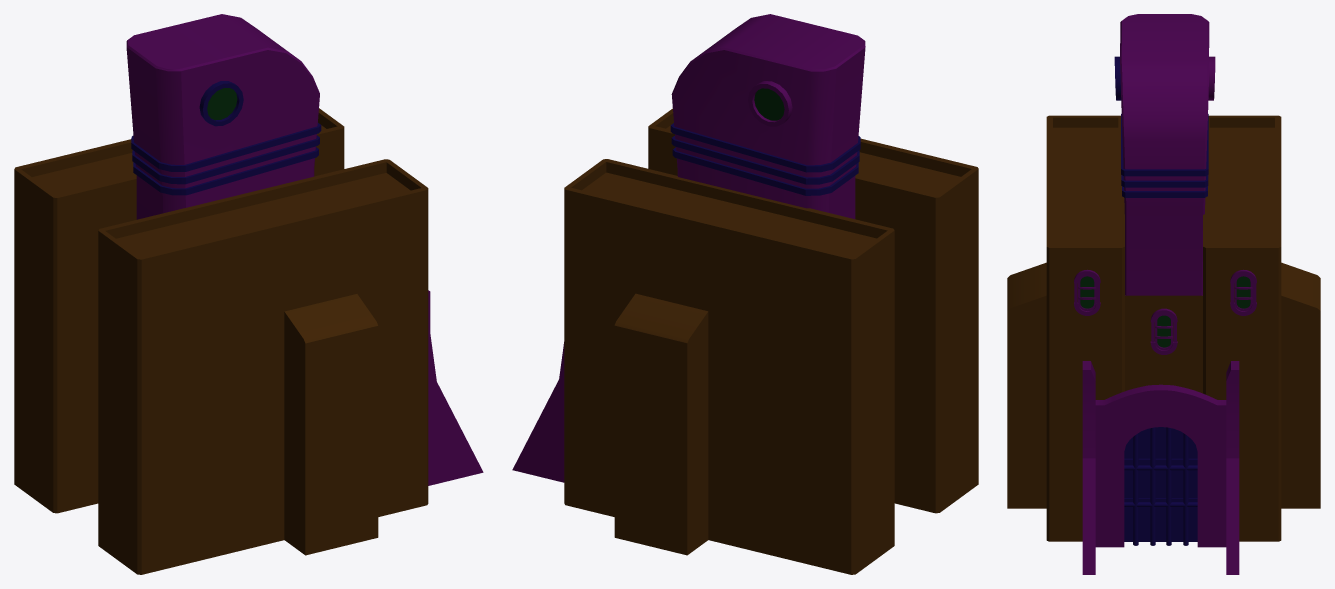
File: Building_Generic_01.FBX
3 views of the same model, side by side, from view 1: azimuth 30°, elevation 25°; view 2: azimuth 150°, elevation 25°; view 3: azimuth 270°, elevation 25° (orthographic). The views are drawn at different scales.
Parts seen in each view (by area): view 1: Building_Generic_01; view 2: Building_Generic_01; view 3: Building_Generic_01.
Part boxes in pixels (left/top/right/bottom): Building_Generic_01: left=14, top=14, right=483, bottom=574; Building_Generic_01: left=512, top=14, right=978, bottom=574; Building_Generic_01: left=1007, top=14, right=1320, bottom=574.
Bounding box in the file's own units: 2001 × 2400 × 1600.
